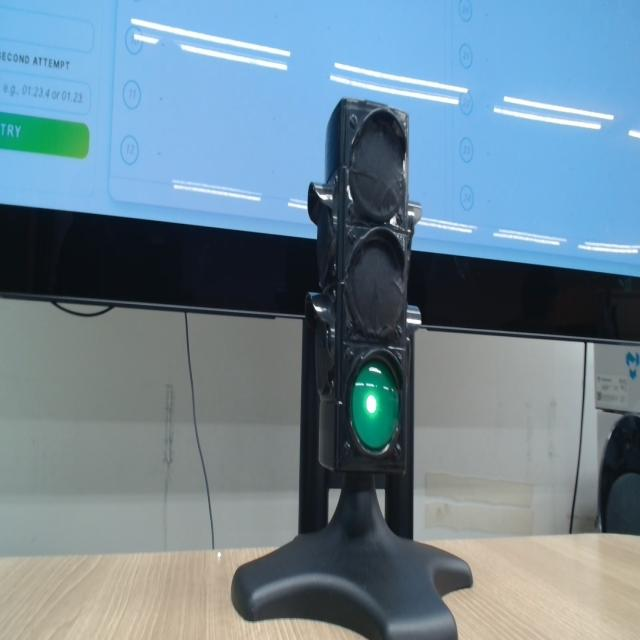green_light: (351, 361, 399, 450)
